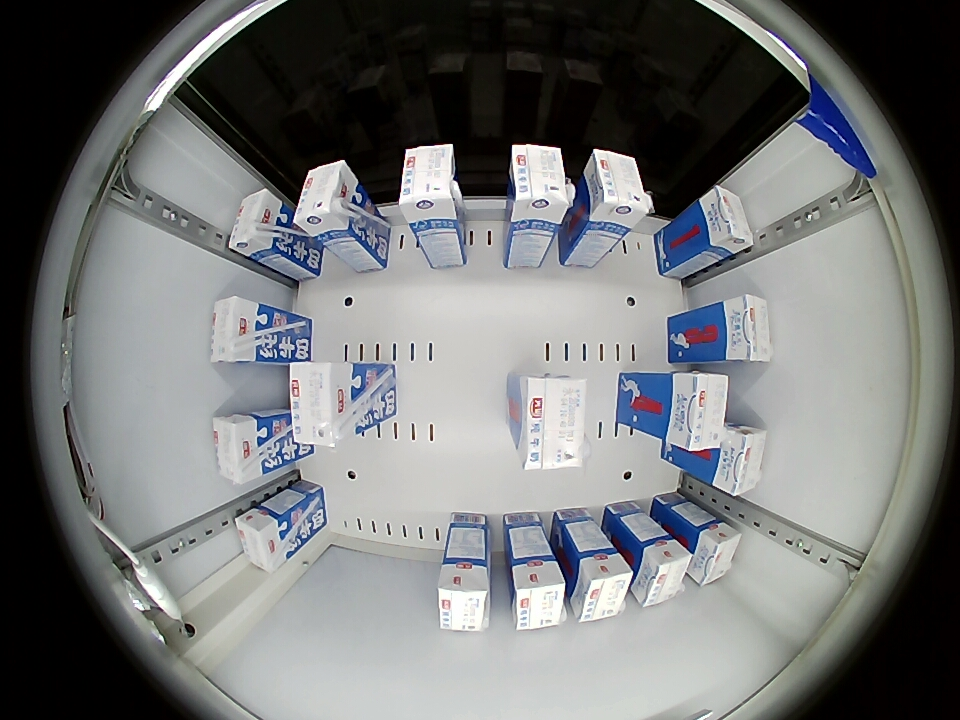niunai: (511, 375, 587, 472), (289, 362, 359, 446), (585, 149, 653, 232), (663, 372, 728, 457), (293, 159, 360, 239), (508, 143, 571, 225), (569, 547, 634, 623), (400, 144, 461, 224), (633, 535, 694, 608), (696, 186, 754, 258), (510, 558, 567, 631), (212, 413, 271, 483), (234, 505, 295, 572), (210, 296, 269, 365), (437, 559, 491, 633), (716, 294, 772, 365), (713, 424, 767, 497), (228, 189, 284, 259), (691, 519, 741, 586)
